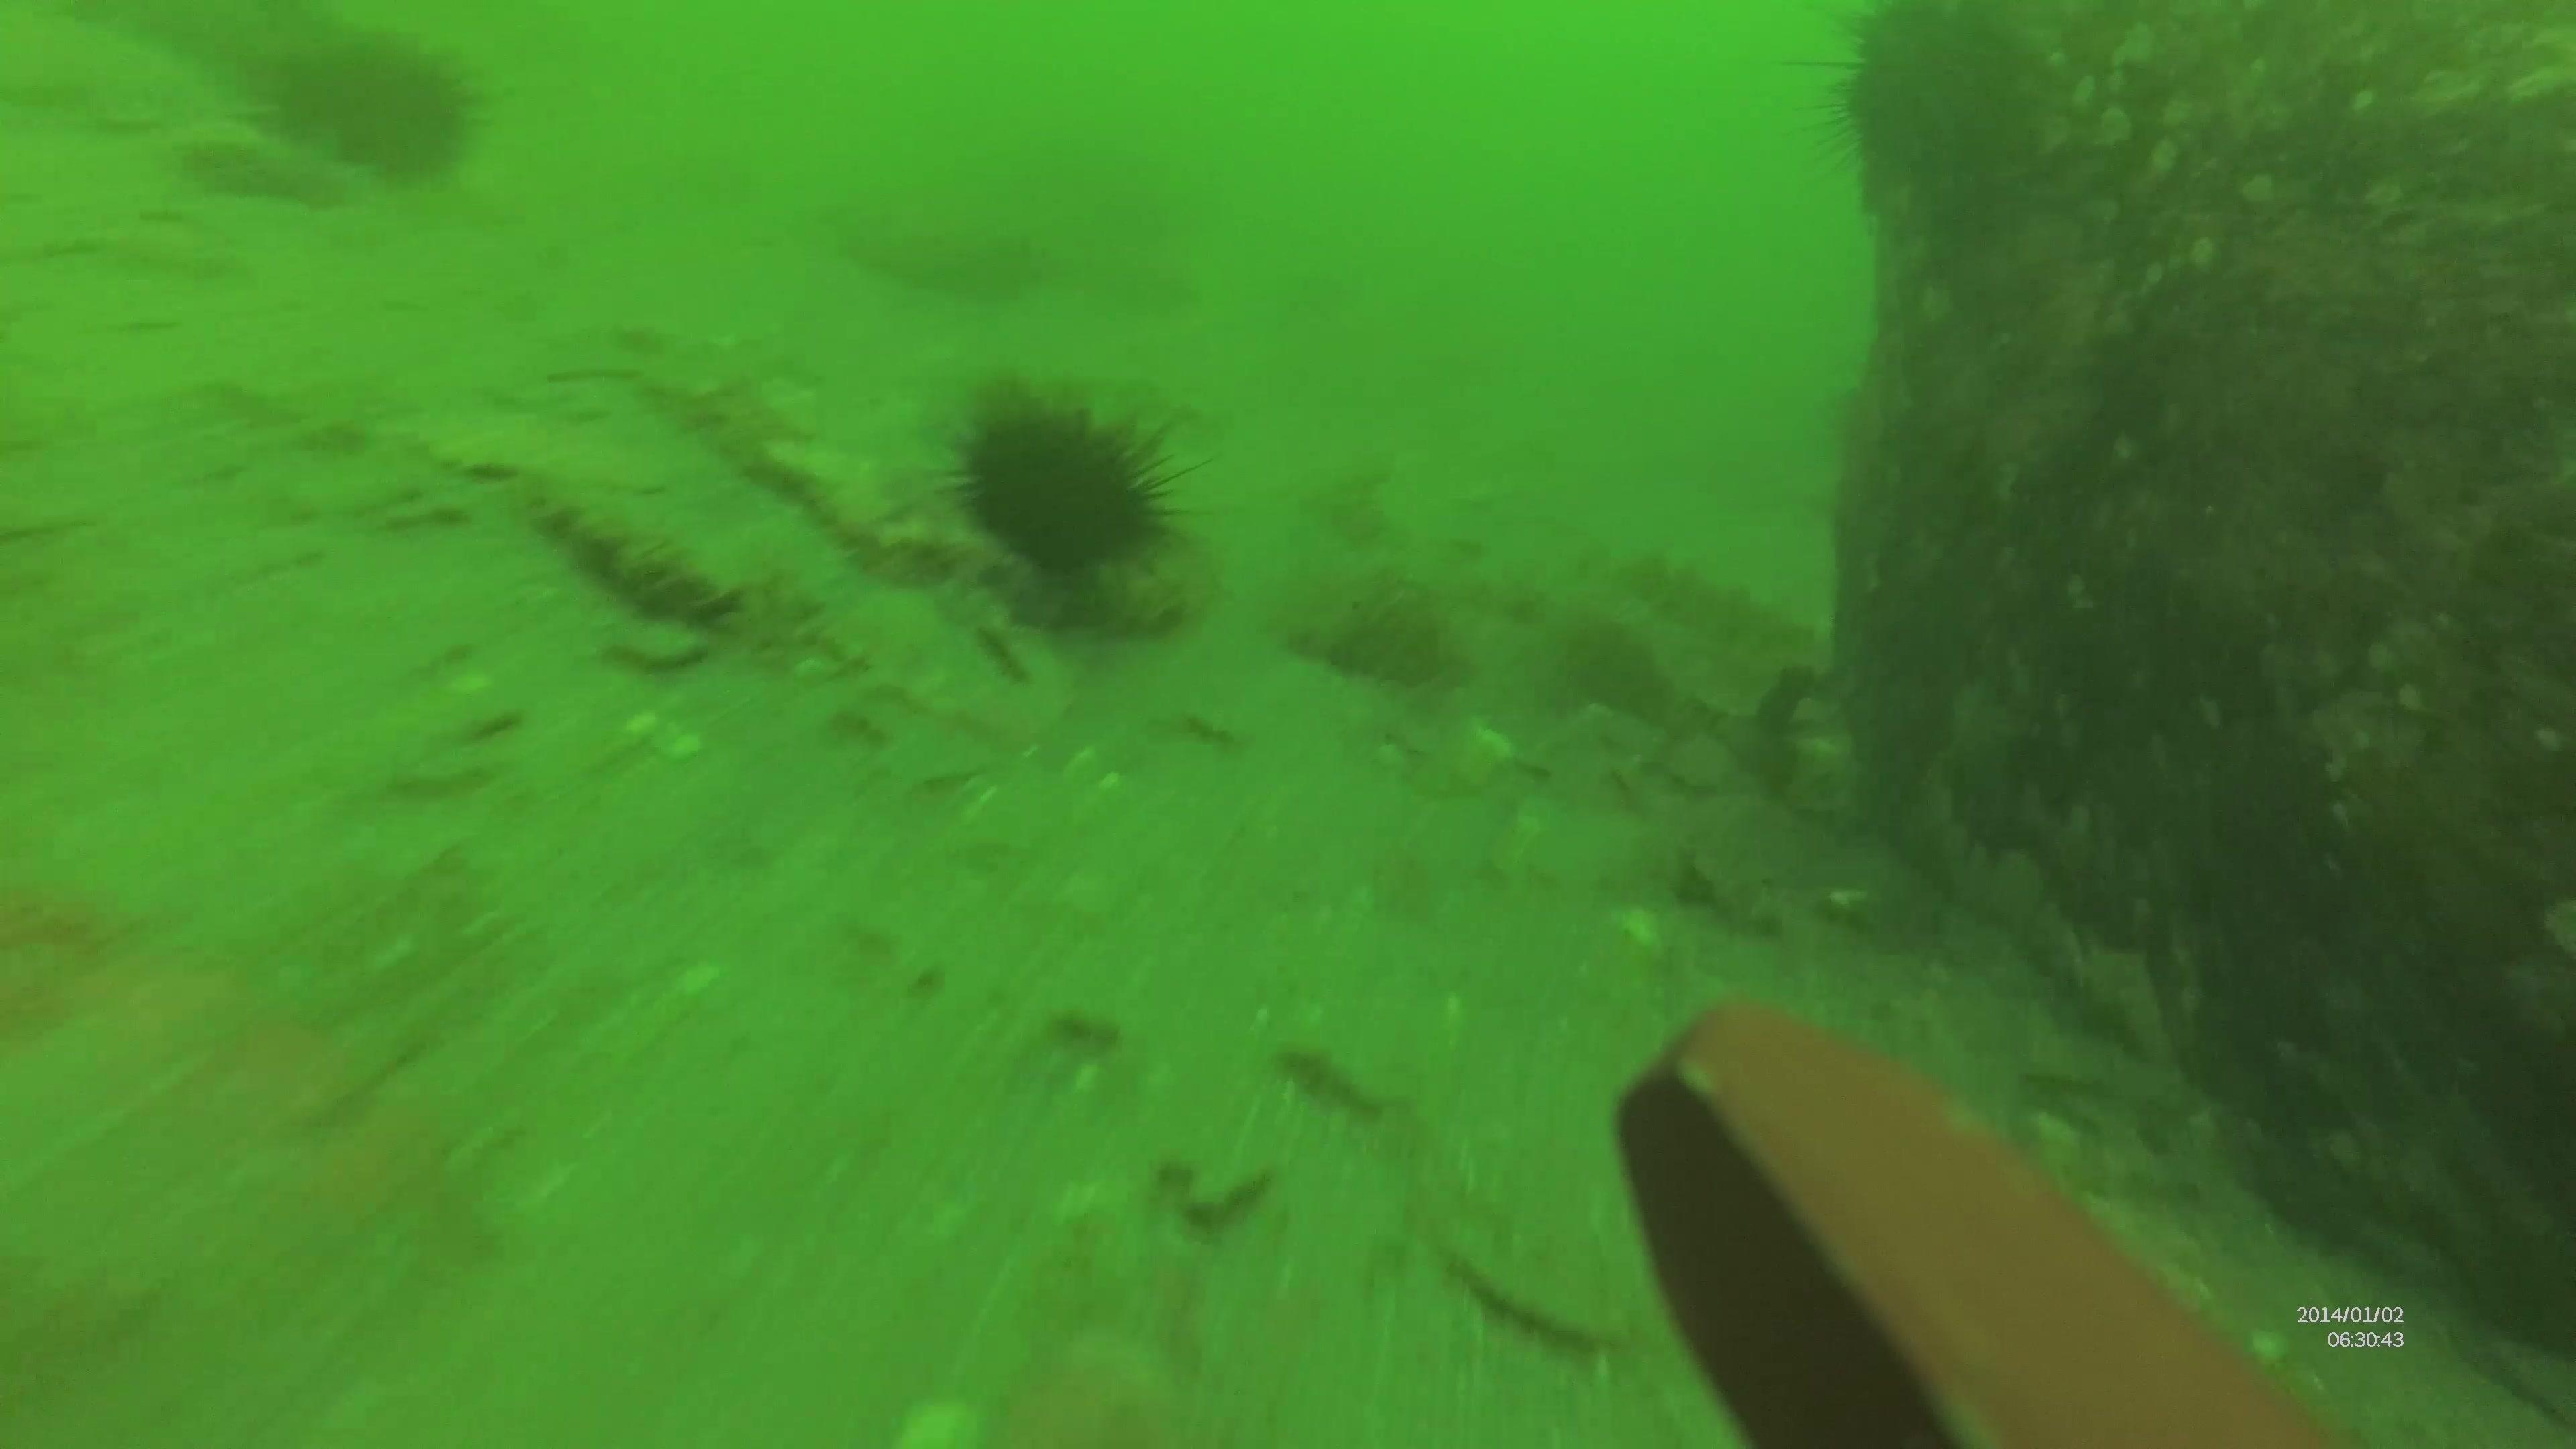echinus: (938, 382, 1217, 589), (1794, 9, 2043, 234), (269, 23, 510, 193)
